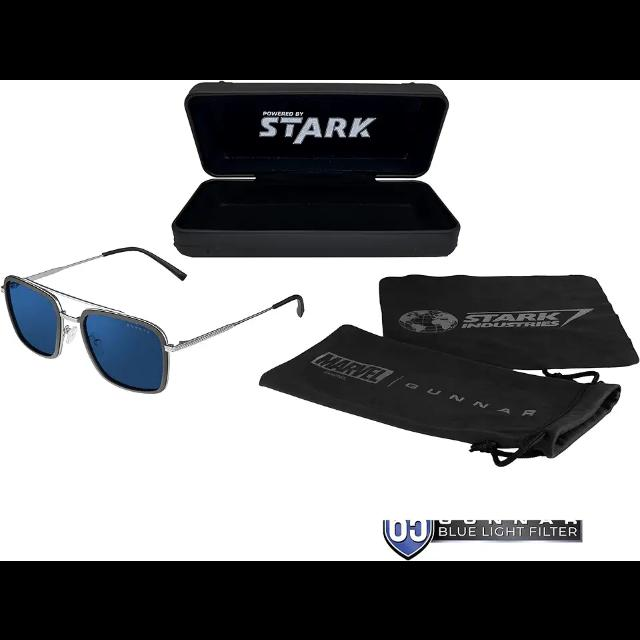Sunglasses: (2, 244, 302, 402)
